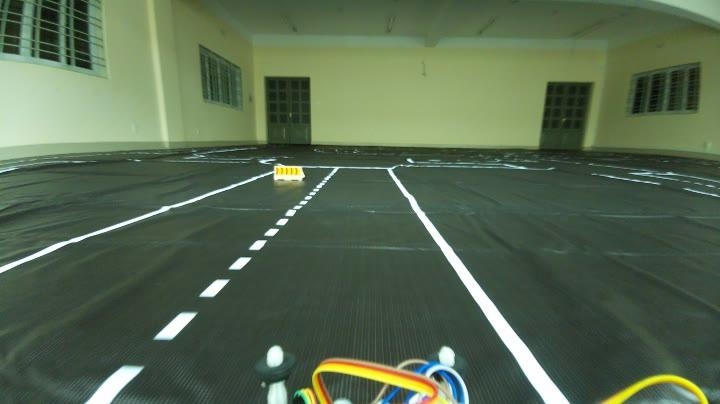roadblock: (270, 158, 307, 182)
